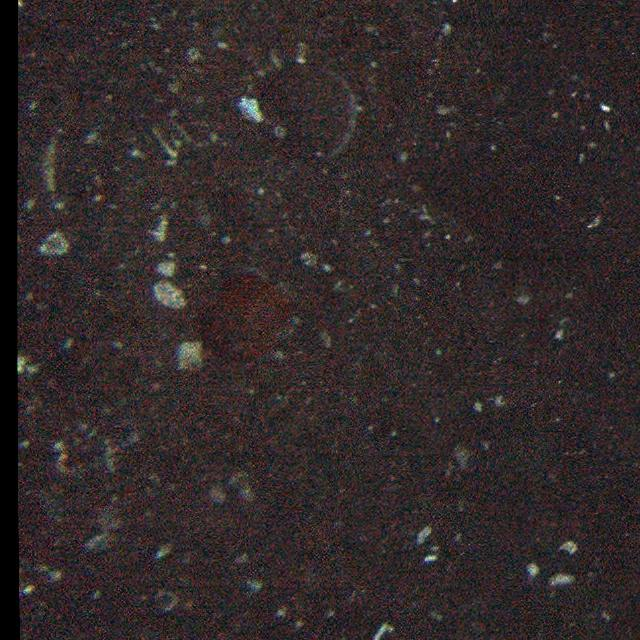scallop: (203, 272, 299, 358)
